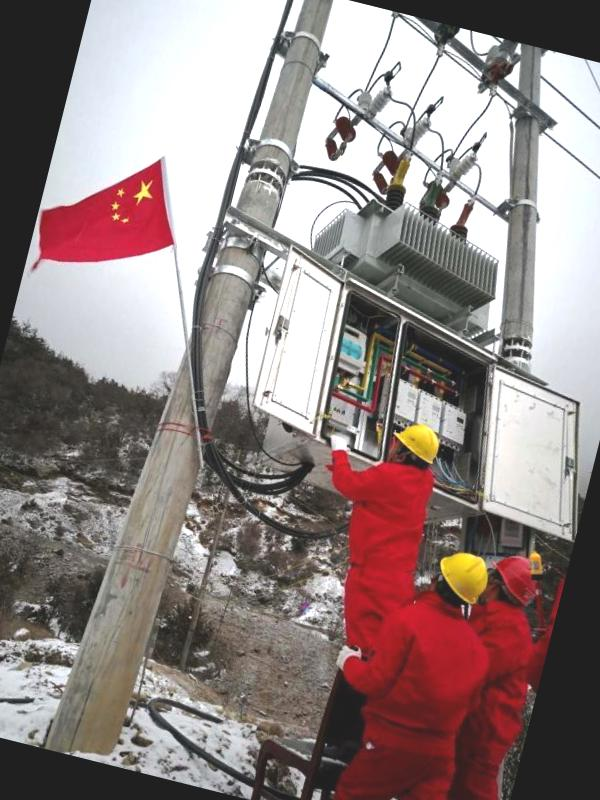helmet: (430, 548, 502, 608), (387, 423, 449, 470)
person: (281, 407, 468, 756), (332, 536, 513, 800)
